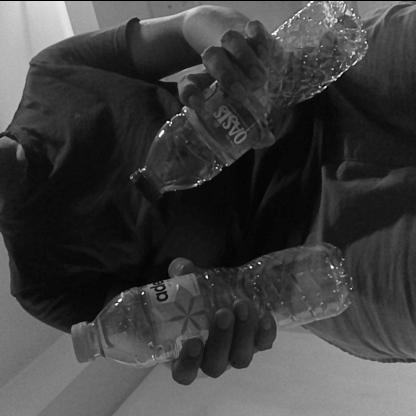plastic_bottles: (126, 0, 368, 203), (69, 241, 357, 367)
